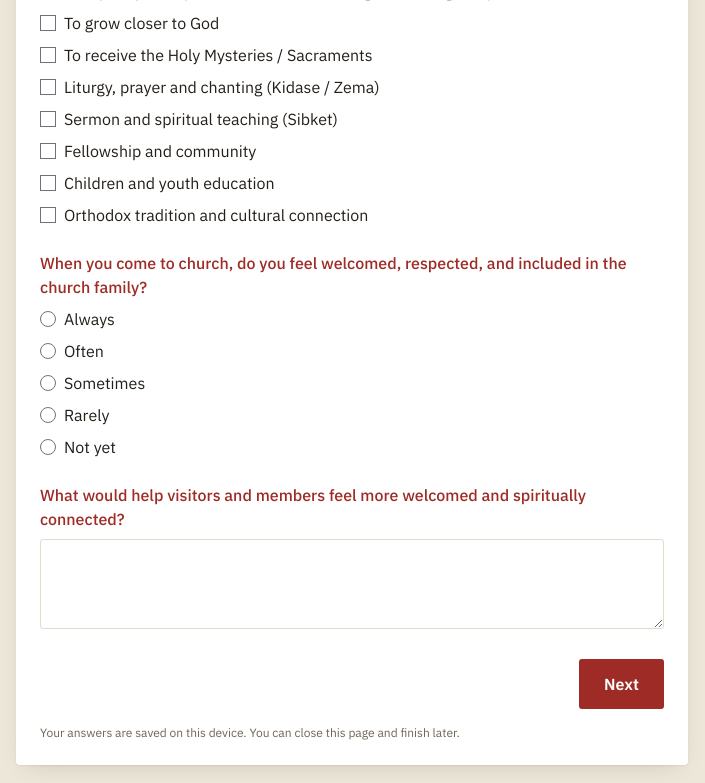
SurveyPage › advances to section 2 on Next and can go Back to section 1
(page scrolled)
Click the button "Next".
click(622, 684)  # box 579,659 -> 664,709
(page scrolled)
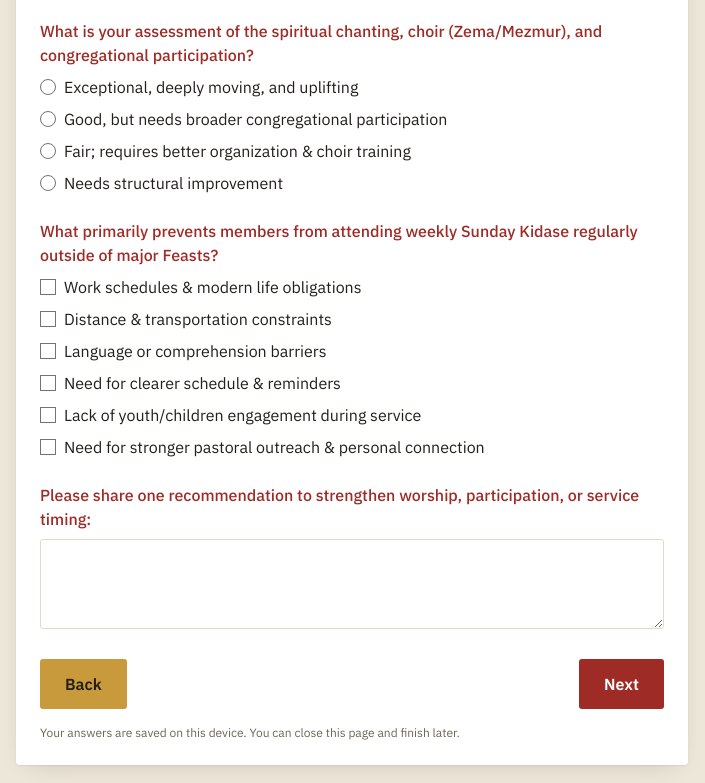
Click the button "Back".
click(83, 684)  # box 40,659 -> 127,709
(page scrolled)
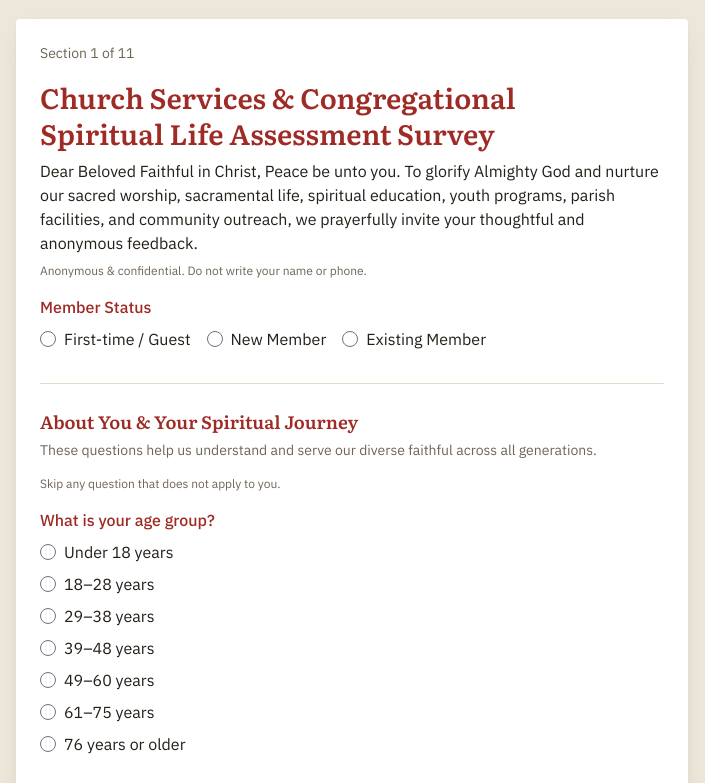
Now the text "Section 1 of 11" is shown, box 40,44 -> 134,62
